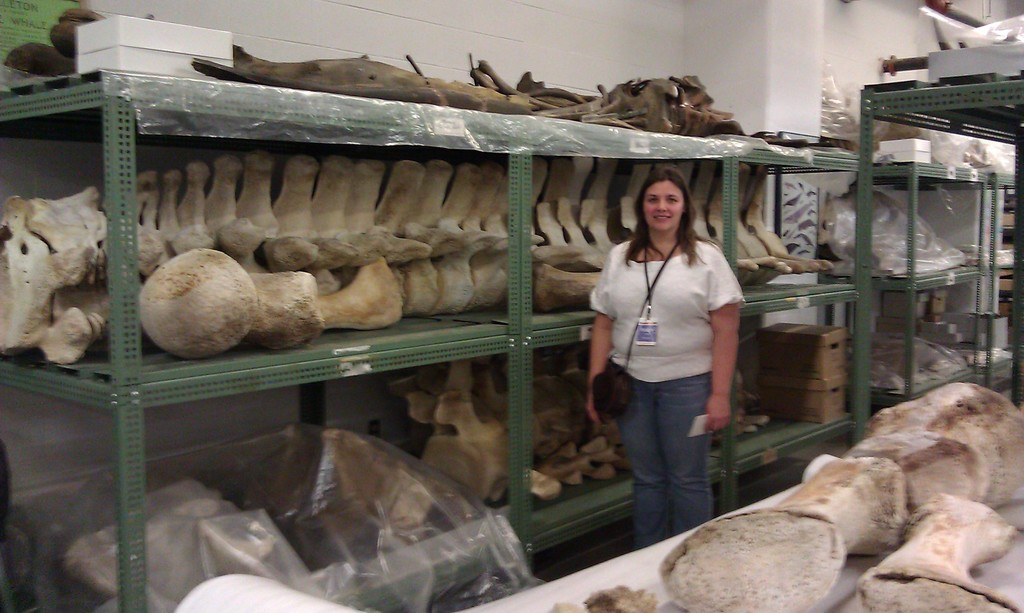Person: (586, 167, 746, 551)
